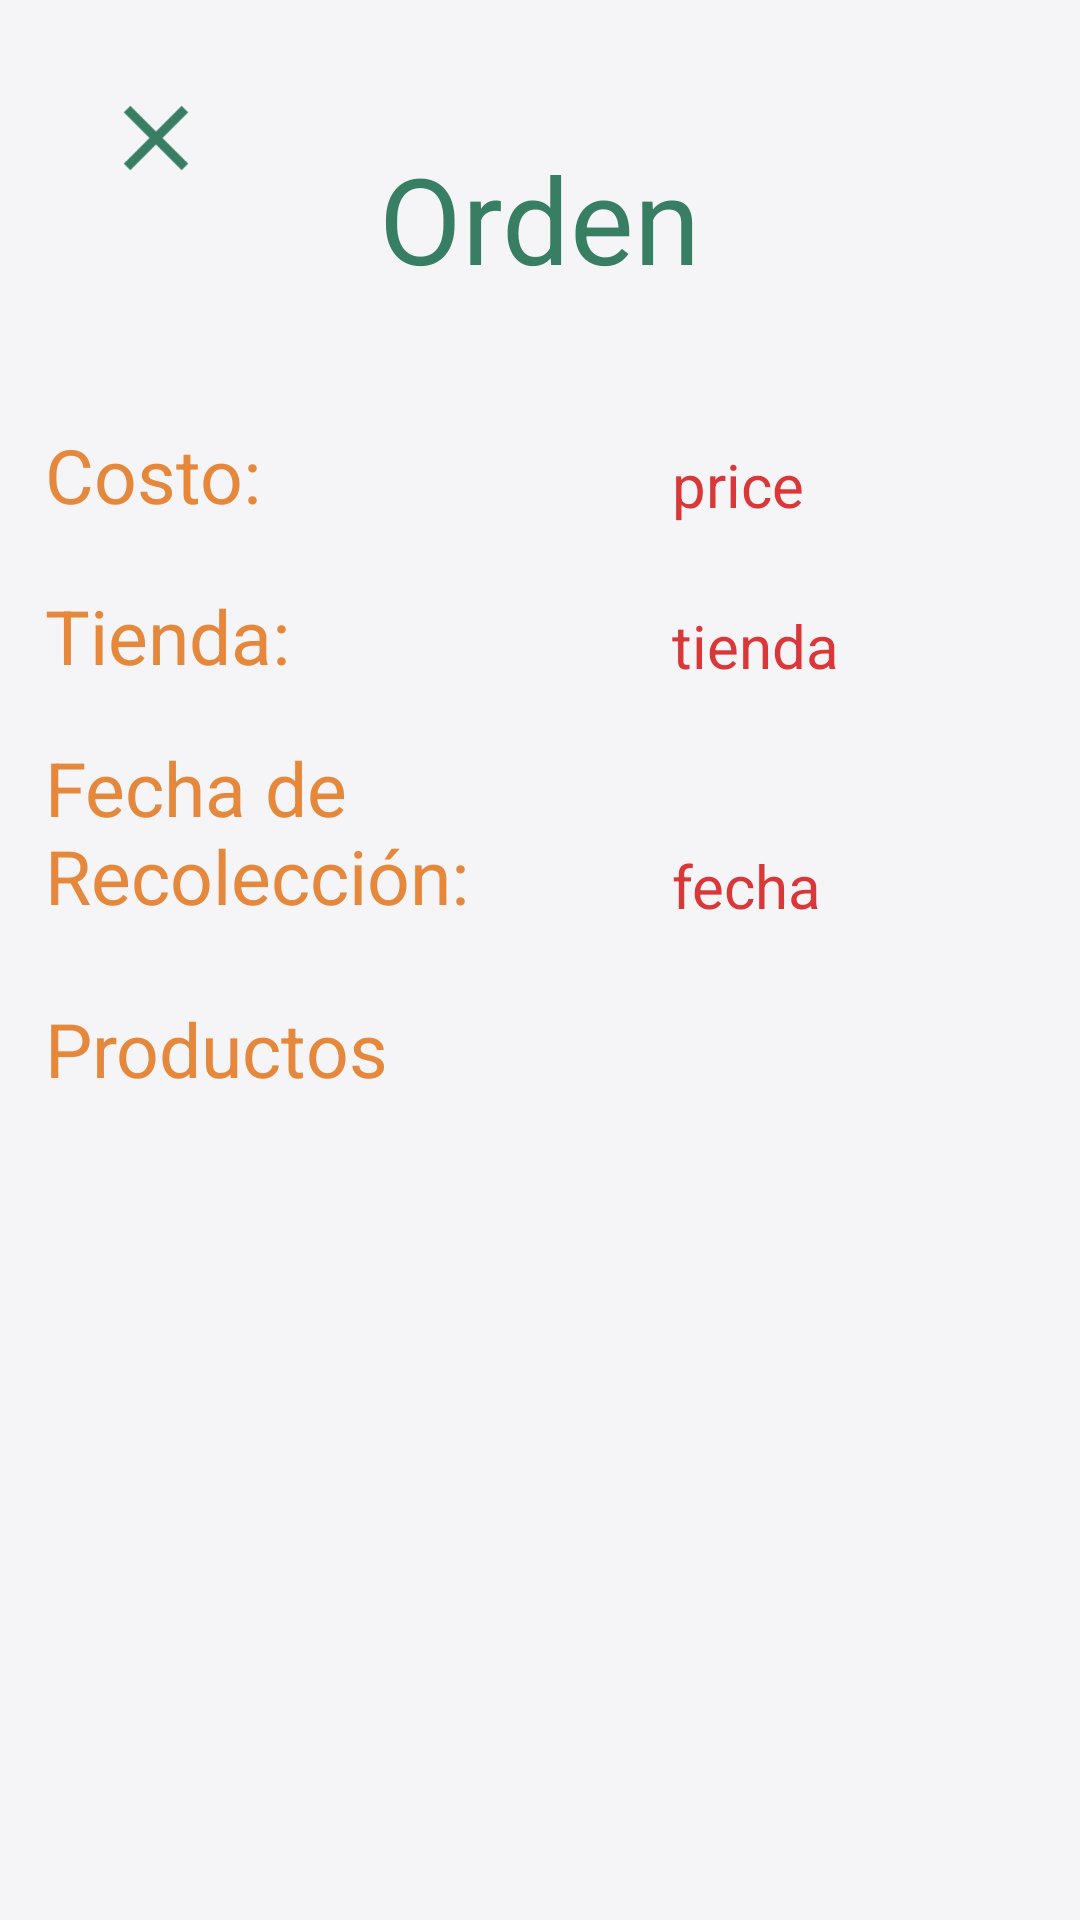

Icons on this 1080×1920 Android screen, each with the point to tap as point (x, y):
close: point (156, 138)
